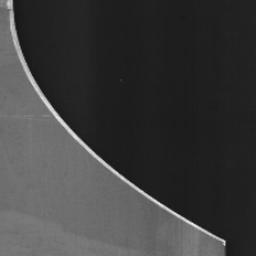Crescent gap: (13, 0, 223, 238)
